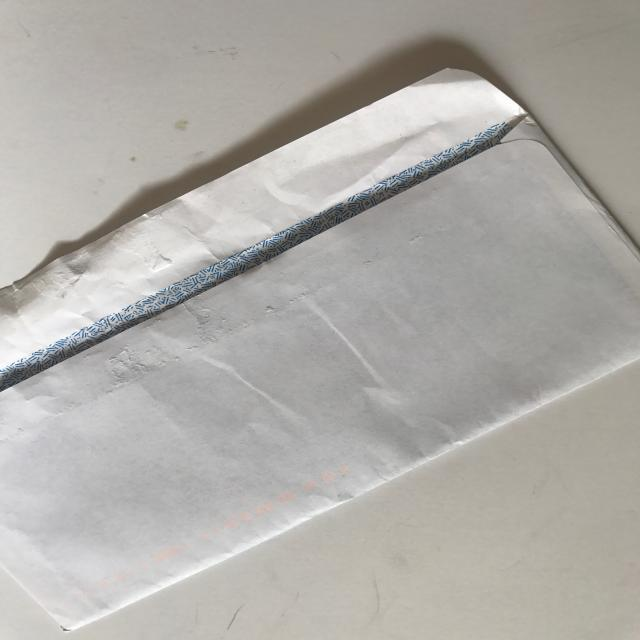paper: (2, 64, 640, 639)
